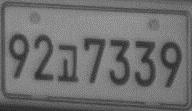2: (33, 33, 54, 82)
3: (107, 37, 131, 86), (133, 39, 156, 88)
7: (82, 36, 106, 85)
9: (158, 40, 184, 89), (8, 33, 30, 80)
고: (57, 43, 80, 82)
